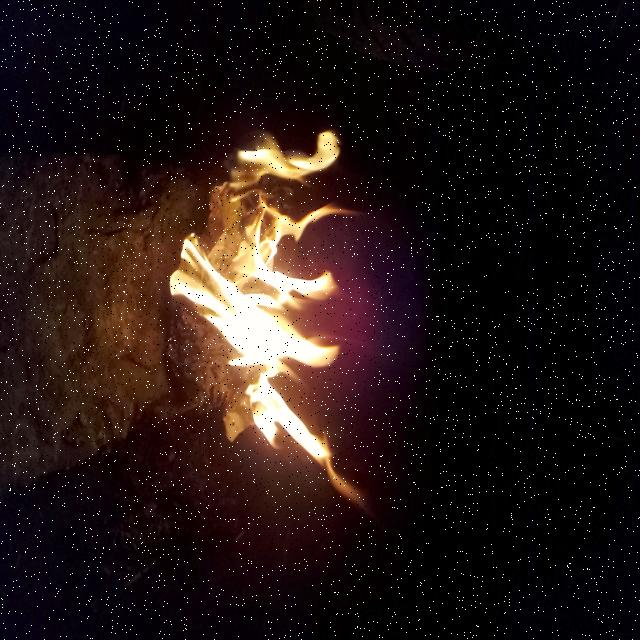fire: (168, 130, 393, 530)
